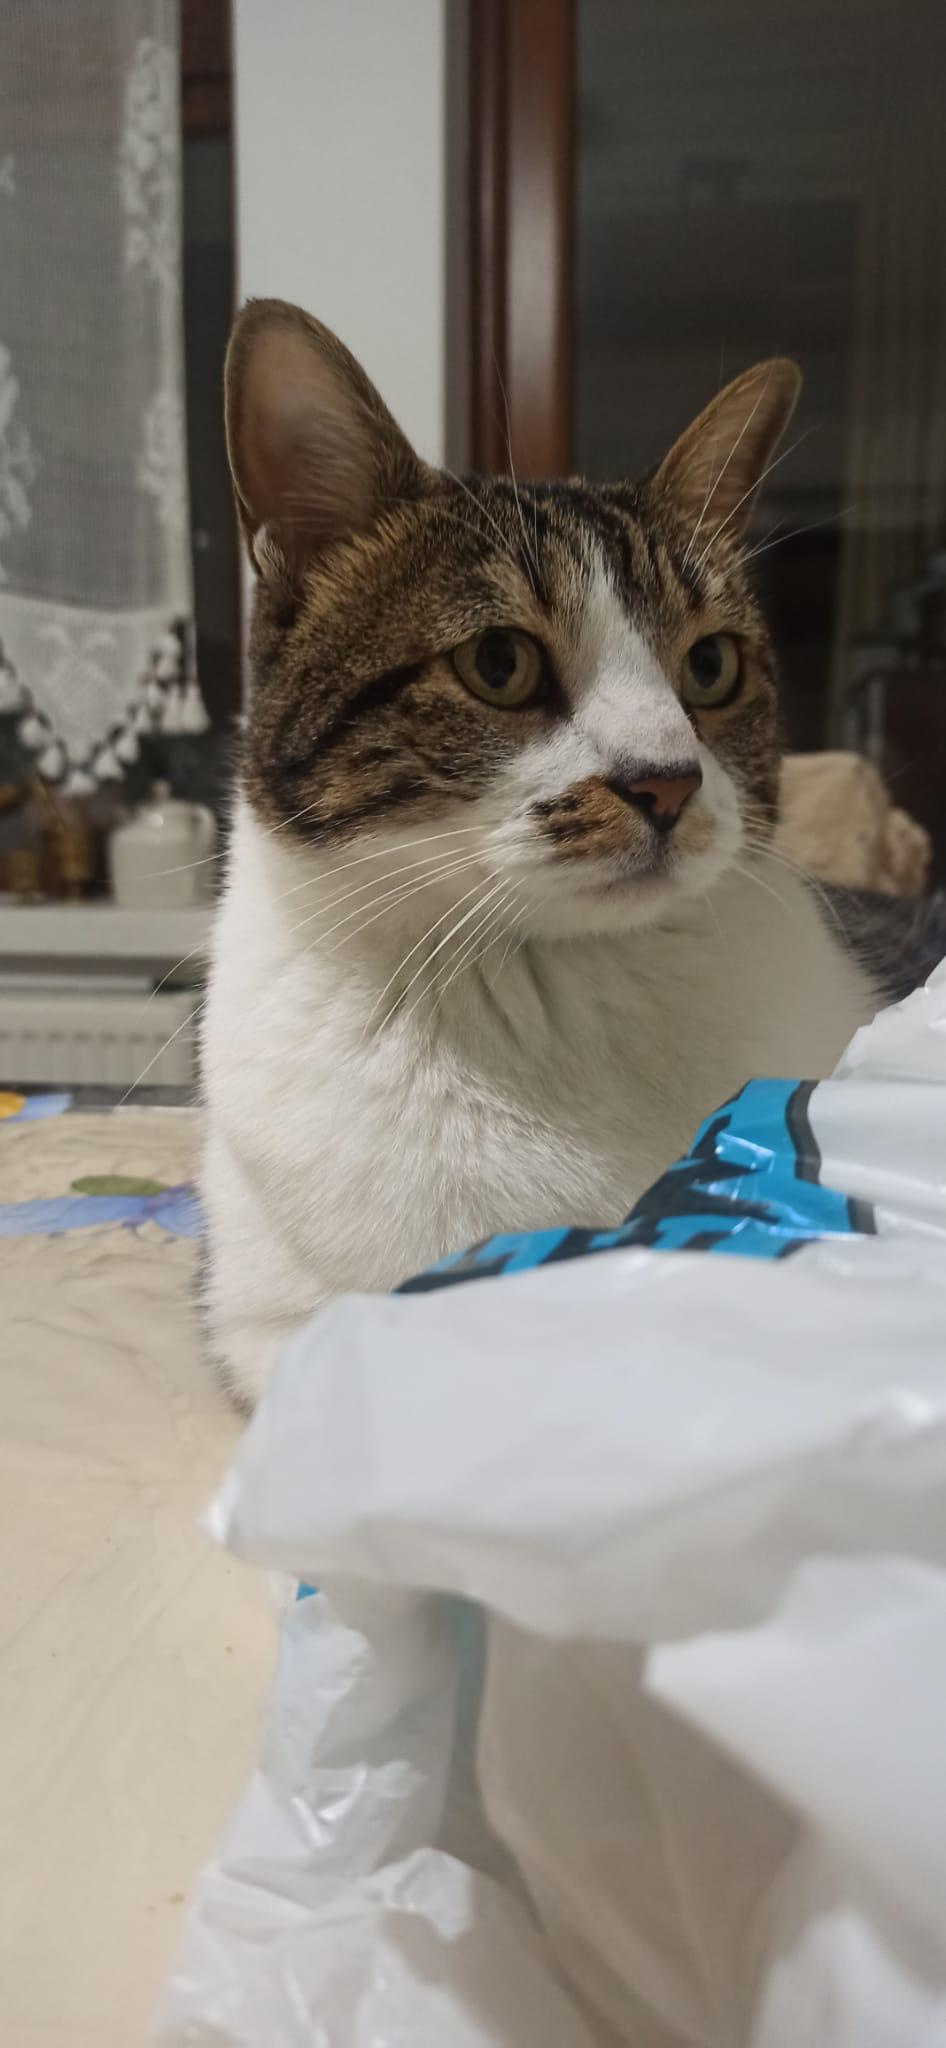kedo: (217, 287, 939, 991)
